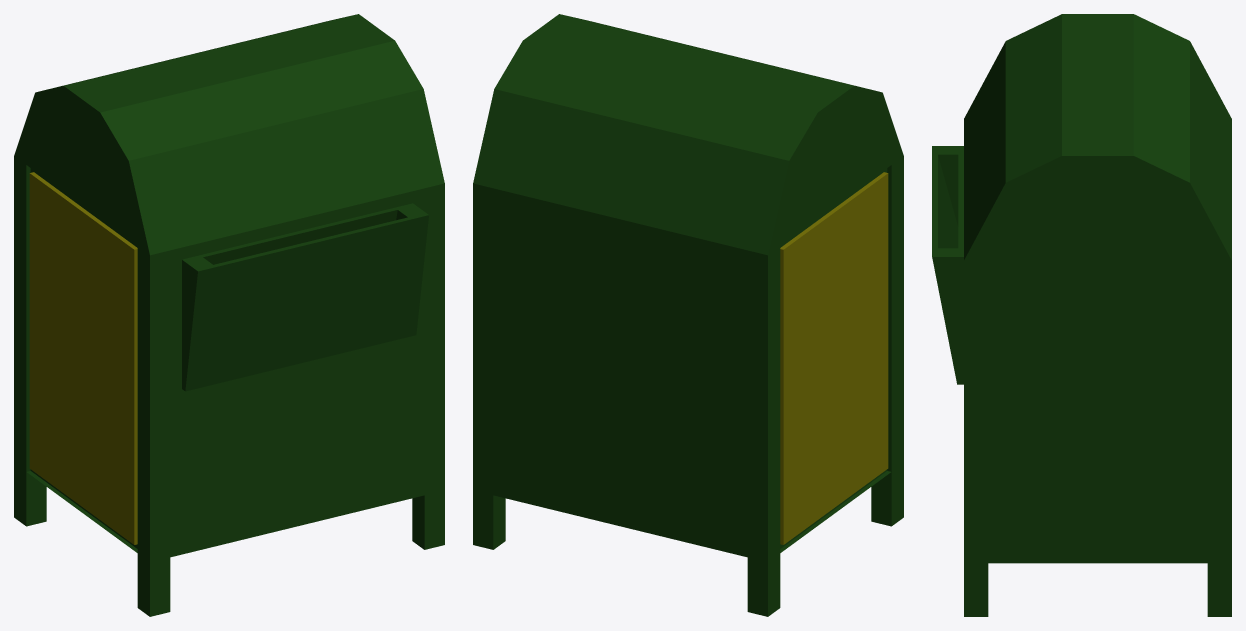
The model's file is Mailbox 1.fbx.
The picture shows the model from 3 angles, left to right: view 1: azimuth 30°, elevation 25°; view 2: azimuth 150°, elevation 25°; view 3: azimuth 270°, elevation 25°; orthographic projection.
Visible parts, largest first — view 1: Mailbox 1; view 2: Mailbox 1; view 3: Mailbox 1.
Boxes of the visible parts, x1=… form: Mailbox 1: x1=14, y1=14, x2=444, y2=616; Mailbox 1: x1=473, y1=14, x2=903, y2=616; Mailbox 1: x1=932, y1=14, x2=1231, y2=616.
Bounding box in the file's own units: 0.817 × 0.7296 × 1.24.
